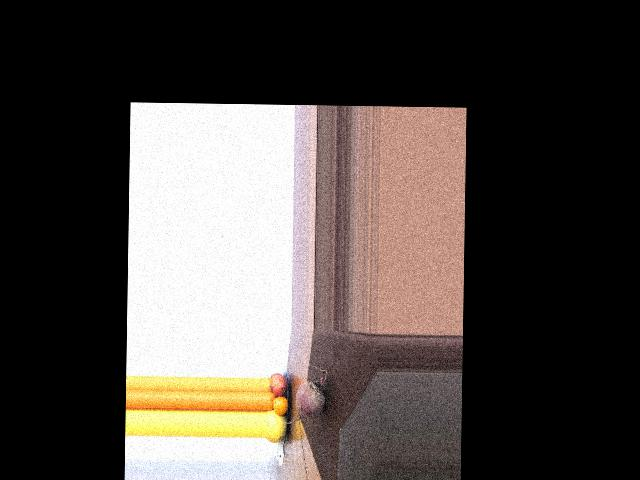beet: (281, 364, 327, 425)
